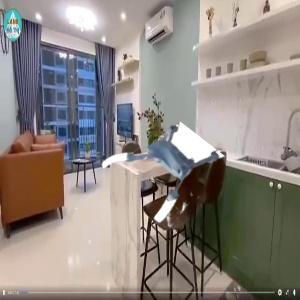drone: (107, 117, 207, 217)
